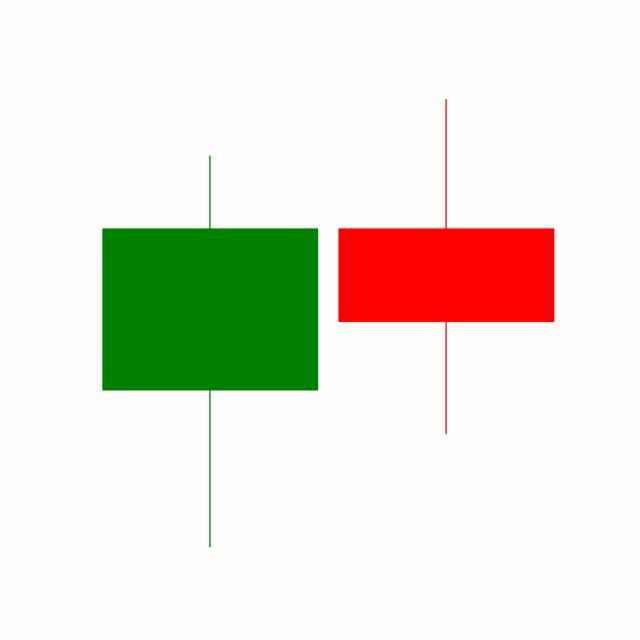Spinning Top: (328, 96, 566, 438)
